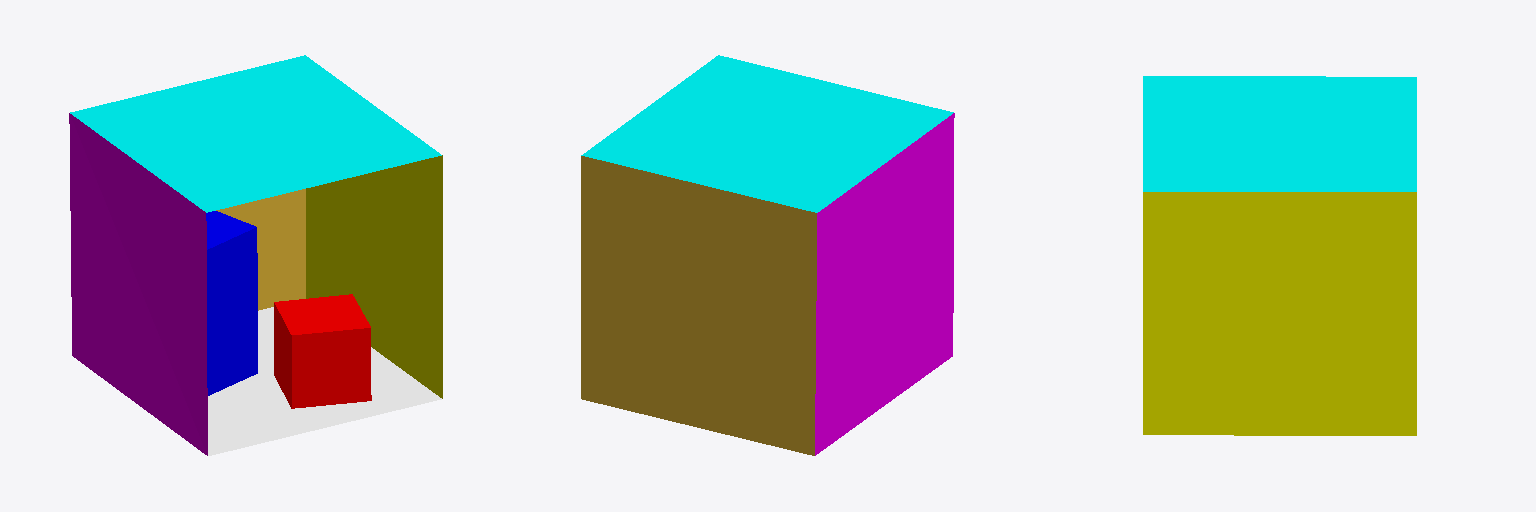
Rendered from cornell-box.obj.
3 renders of one model, left to right at view 1: azimuth 30°, elevation 25°; view 2: azimuth 150°, elevation 25°; view 3: azimuth 270°, elevation 25°, orthographic.
Parts seen in each view (by area): view 1: left_wall, ceiling, right_wall, floor, short_box, tall_box, back_wall; view 2: back_wall, left_wall, ceiling; view 3: right_wall, ceiling.
Part boxes in pixels (bbox=[...]): left_wall: bbox=[69, 113, 207, 455]; ceiling: bbox=[70, 55, 441, 212]; right_wall: bbox=[306, 155, 442, 398]; floor: bbox=[208, 307, 441, 455]; short_box: bbox=[274, 294, 371, 408]; tall_box: bbox=[206, 211, 257, 395]; back_wall: bbox=[216, 189, 305, 310]; back_wall: bbox=[581, 156, 816, 455]; left_wall: bbox=[815, 113, 954, 455]; ceiling: bbox=[581, 55, 953, 212]; right_wall: bbox=[1143, 192, 1416, 435]; ceiling: bbox=[1143, 76, 1416, 191].
Size of the model in its own units: 5.56 by 5.49 by 5.6.